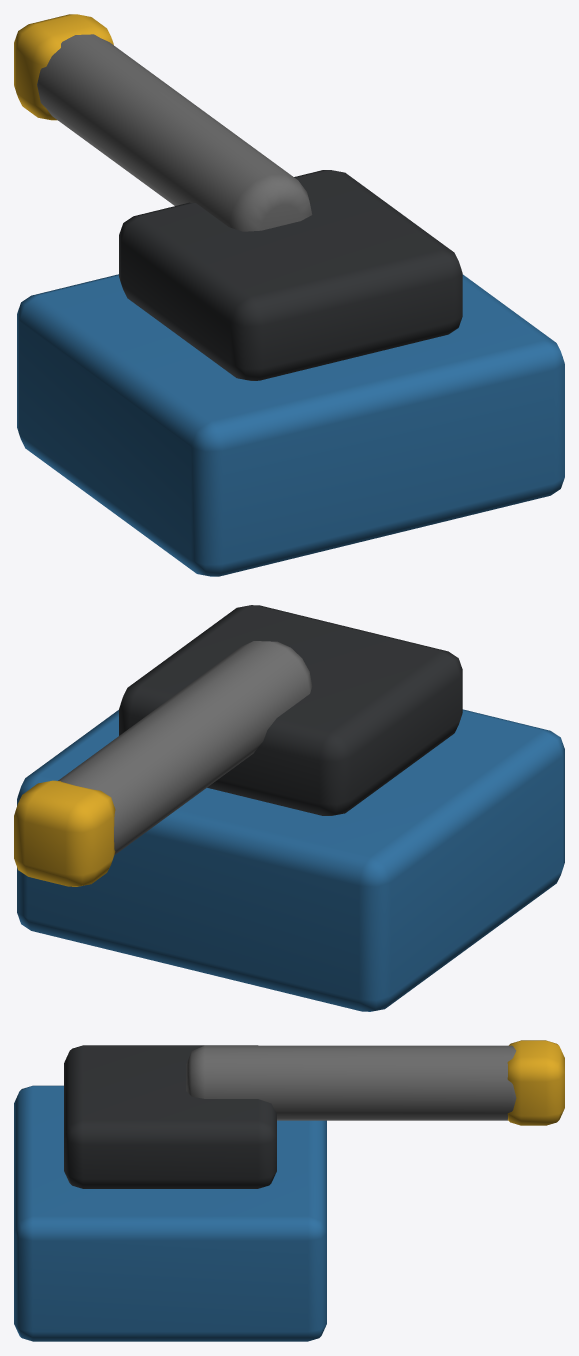
The model's file is weapon-gun.glb.
3 views of the same model, one above another, from view 1: azimuth 30°, elevation 25°; view 2: azimuth 150°, elevation 25°; view 3: azimuth 270°, elevation 25° (orthographic). The views are drawn at different scales.
Parts seen in each view (by area): view 1: weapon-gun, barrel_cannon, muzzle; view 2: weapon-gun, barrel_cannon, muzzle; view 3: weapon-gun, barrel_cannon, muzzle.
Boxes of the visible parts, x1,y1,x2,y2 form: weapon-gun: (17,170,564,576); barrel_cannon: (37,34,312,231); muzzle: (14,14,113,120); weapon-gun: (17,605,564,1011); barrel_cannon: (58,641,312,854); muzzle: (14,780,115,886); weapon-gun: (14,1045,326,1341); barrel_cannon: (186,1045,516,1120); muzzle: (507,1040,564,1125).
Bounding box in the file's own units: 0.55 × 0.4 × 0.88.
